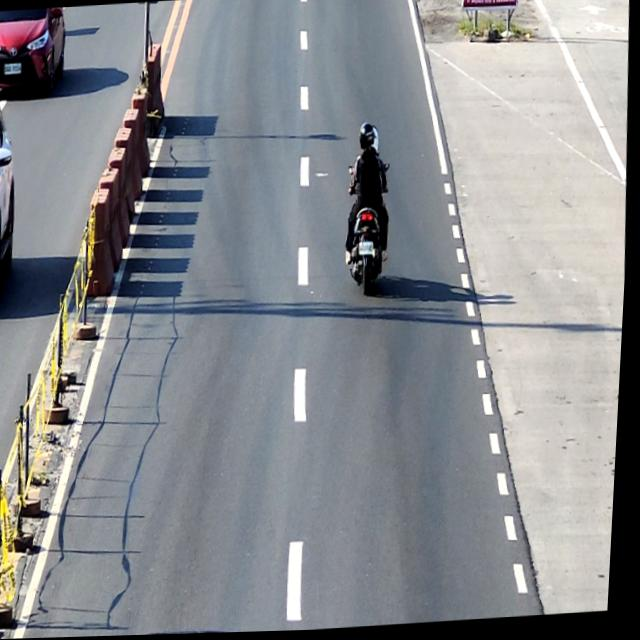Car: (0, 6, 69, 101), (0, 89, 25, 304)
License-Plate: (360, 242, 377, 257), (4, 63, 22, 74)
Motorcycle: (345, 164, 396, 298)
